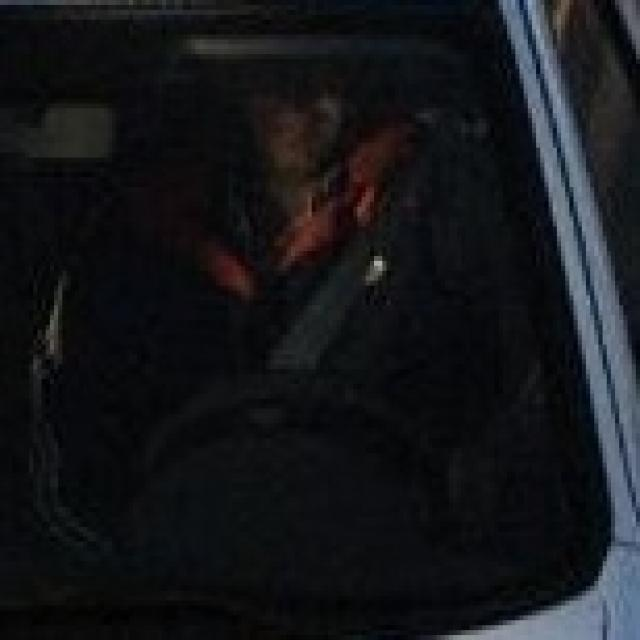seatbelt: (291, 172, 403, 354)
